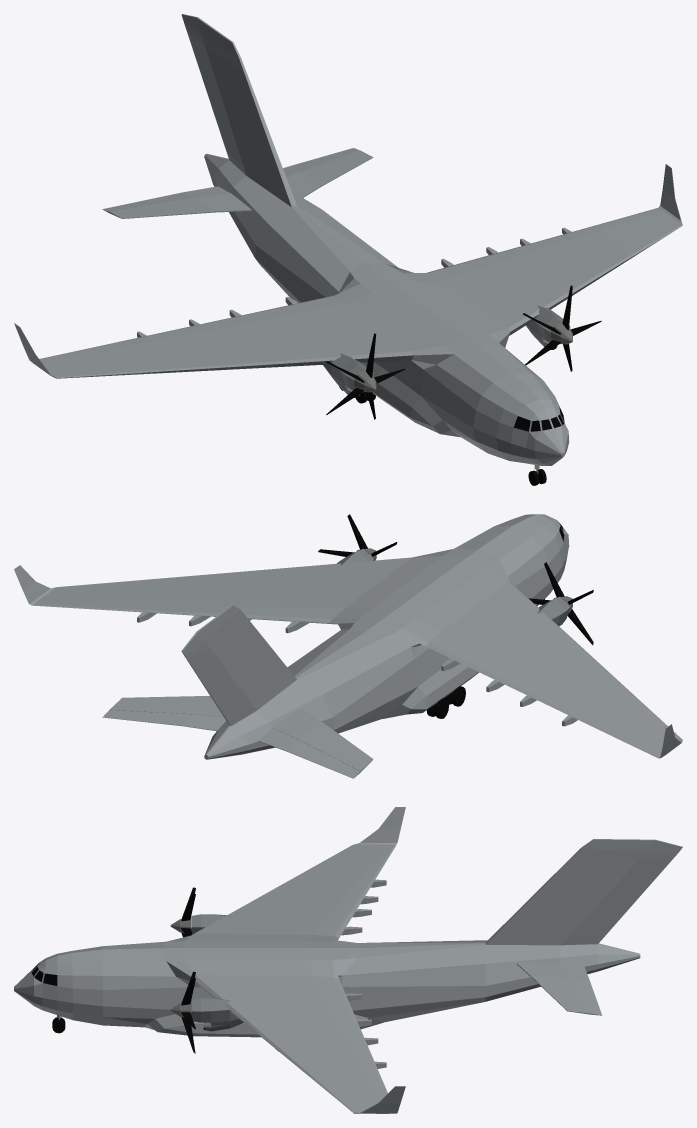
3 views of the same model, one above another, from view 1: azimuth 30°, elevation 25°; view 2: azimuth 150°, elevation 25°; view 3: azimuth 270°, elevation 25° (orthographic). The views are drawn at different scales.
Parts seen in each view (by area): view 1: Body.003, Rudder.003, R_Flap2.003, propeller 2.012, propeller 2.014, L_Flap2.003, R_elevator.003, R_Flap1.003, L_Flap1.003; view 2: Body.003, Rudder.003, R_Flap2.003, L_Flap2.003, R_elevator.003, L_Elevator.003, R_Flap1.003, L_Flap1.003, propeller 2.014, Landing gear_RR.003, propeller 2.012, R_ailerone.003 (+1 smaller); view 3: Body.003, Rudder.003, L_Flap2.003, R_Flap2.003, L_Flap1.003, L_Elevator.003, R_Flap1.003, propeller 2.012, propeller 2.014.
Boxes of the visible parts, x1,y1,x2,y2 form: Body.003: (14, 14, 682, 465); Rudder.003: (187, 31, 243, 166); R_Flap2.003: (229, 296, 344, 323); propeller 2.012: (523, 285, 601, 371); propeller 2.014: (326, 333, 404, 419); L_Flap2.003: (426, 247, 514, 280); R_elevator.003: (102, 186, 229, 212); R_Flap1.003: (116, 319, 221, 346); L_Flap1.003: (519, 226, 599, 252); Body.003: (14, 514, 682, 772); Rudder.003: (187, 647, 253, 721); R_Flap2.003: (426, 632, 514, 691); L_Flap2.003: (239, 606, 344, 633); R_elevator.003: (258, 728, 360, 778); L_Elevator.003: (102, 710, 225, 731); R_Flap1.003: (518, 680, 599, 726); L_Flap1.003: (115, 603, 222, 626); propeller 2.014: (529, 562, 593, 645); Landing gear_RR.003: (426, 686, 465, 718); propeller 2.012: (318, 514, 397, 560); R_ailerone.003: (596, 722, 660, 757); Body.003: (14, 807, 682, 1113); Rudder.003: (566, 858, 672, 939); L_Flap2.003: (312, 976, 371, 1026); R_Flap2.003: (312, 904, 371, 937); L_Flap1.003: (342, 1030, 386, 1075); L_Elevator.003: (561, 964, 602, 1015); R_Flap1.003: (343, 870, 386, 904); propeller 2.012: (170, 971, 195, 1053); propeller 2.014: (170, 887, 195, 937).
Size of the model in its own units: 4053 by 1298 by 4103.
